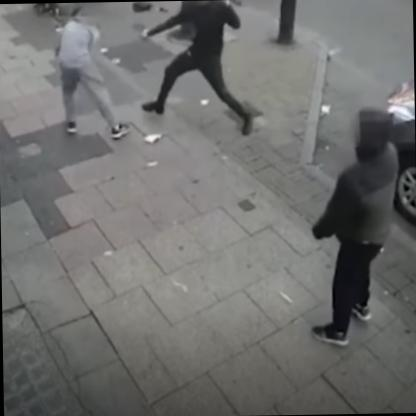Human Body: (300, 105, 400, 345), (137, 0, 249, 140), (54, 6, 131, 135)
